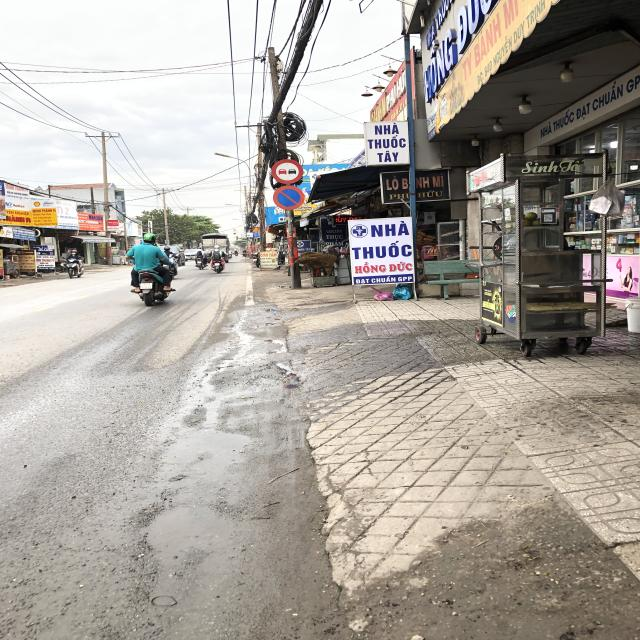Bien bao cam vuot: (269, 157, 305, 185)
